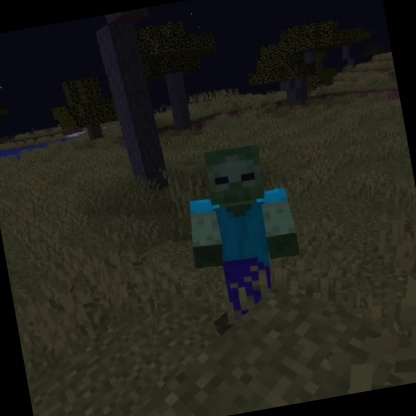zombie: (172, 135, 313, 329)
